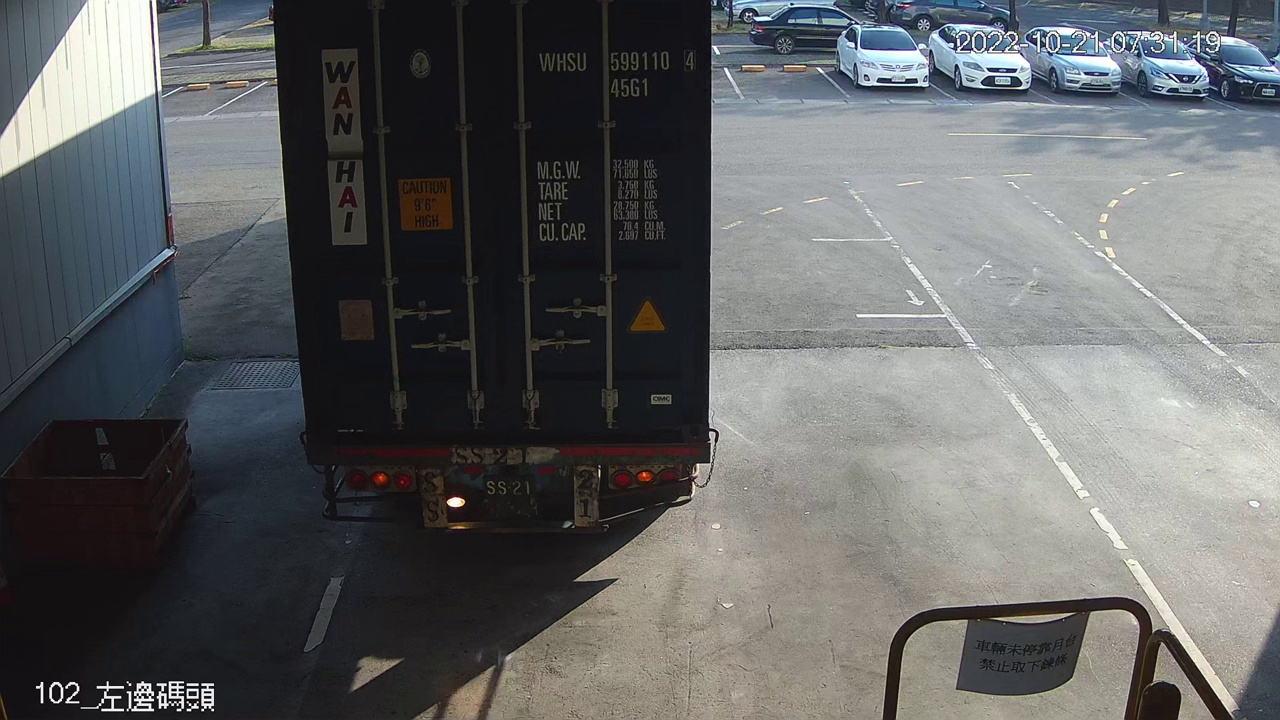container: (530, 40, 703, 104)
